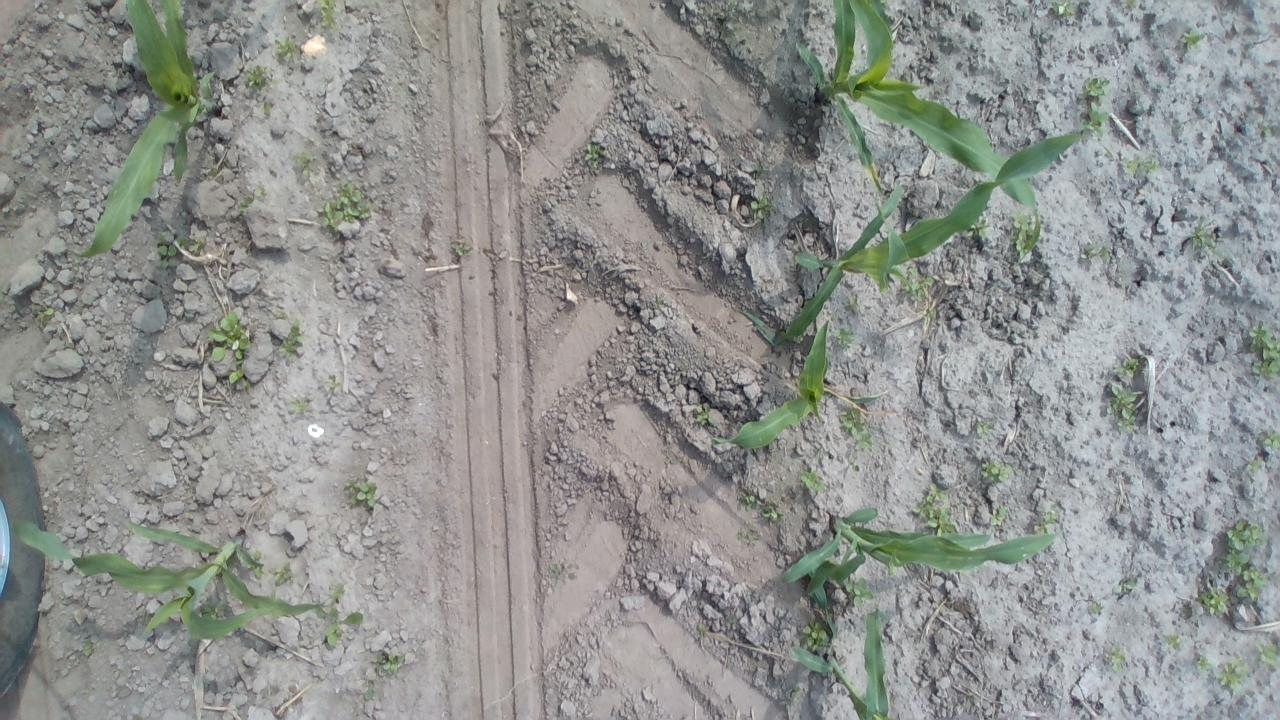Maize: (744, 132, 1116, 347), (793, 0, 1042, 266), (13, 516, 346, 640), (67, 0, 222, 259), (781, 505, 1065, 599), (708, 319, 829, 450), (788, 573, 892, 720)
Weeds: (1219, 516, 1269, 601), (316, 178, 374, 232), (206, 308, 251, 362), (316, 605, 365, 651), (910, 481, 954, 532), (154, 231, 206, 270), (1080, 74, 1112, 136), (1247, 322, 1280, 377), (1105, 382, 1140, 432), (838, 408, 872, 452), (900, 265, 934, 302), (278, 316, 306, 360), (1187, 218, 1220, 254), (1214, 656, 1247, 692), (343, 478, 380, 510), (370, 647, 408, 676), (844, 576, 876, 608), (1122, 152, 1161, 178), (1012, 208, 1032, 256), (1102, 642, 1130, 676), (799, 618, 828, 650), (1200, 586, 1228, 618), (239, 184, 267, 214), (692, 400, 718, 429), (1254, 638, 1279, 668), (757, 498, 786, 523), (1079, 240, 1113, 261), (272, 35, 298, 62), (980, 461, 1012, 482), (582, 142, 604, 172), (1180, 26, 1205, 52), (750, 192, 774, 219), (243, 63, 270, 87), (317, 0, 340, 28), (1032, 511, 1058, 535), (734, 526, 762, 548), (547, 562, 581, 580), (292, 150, 317, 174), (1112, 356, 1139, 378), (32, 302, 53, 330), (800, 470, 825, 493), (248, 550, 268, 578), (1260, 424, 1280, 451), (272, 560, 294, 584), (964, 219, 990, 239), (321, 372, 342, 396), (1110, 578, 1136, 596), (834, 326, 854, 348), (288, 395, 310, 415), (1051, 0, 1075, 17), (1258, 120, 1280, 138), (362, 680, 379, 703), (663, 446, 681, 467), (199, 602, 220, 620), (990, 507, 1009, 526), (974, 417, 994, 434), (694, 622, 711, 641), (450, 242, 471, 257), (738, 486, 756, 503), (1196, 652, 1211, 672), (919, 308, 936, 325), (842, 292, 858, 310), (328, 580, 344, 598), (1243, 457, 1262, 472), (654, 291, 669, 310), (229, 368, 244, 384), (206, 159, 218, 178), (1087, 601, 1102, 615), (1167, 632, 1181, 647), (1120, 0, 1136, 13), (82, 640, 93, 658), (756, 162, 770, 176), (258, 102, 272, 116), (1034, 255, 1046, 270), (790, 685, 800, 700), (850, 458, 860, 472), (275, 310, 286, 322), (962, 694, 974, 704), (727, 613, 739, 623), (1011, 262, 1020, 274), (246, 378, 252, 390)
